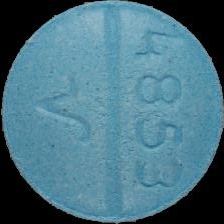0603-4975: (0, 0, 224, 224)
